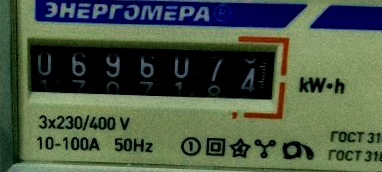0: (34, 46, 54, 76), (170, 50, 190, 78)
4: (238, 65, 257, 93)
6: (137, 49, 156, 78), (68, 48, 87, 76)
7: (205, 51, 225, 82)
9: (102, 50, 121, 78)
screen: (12, 22, 294, 120)
